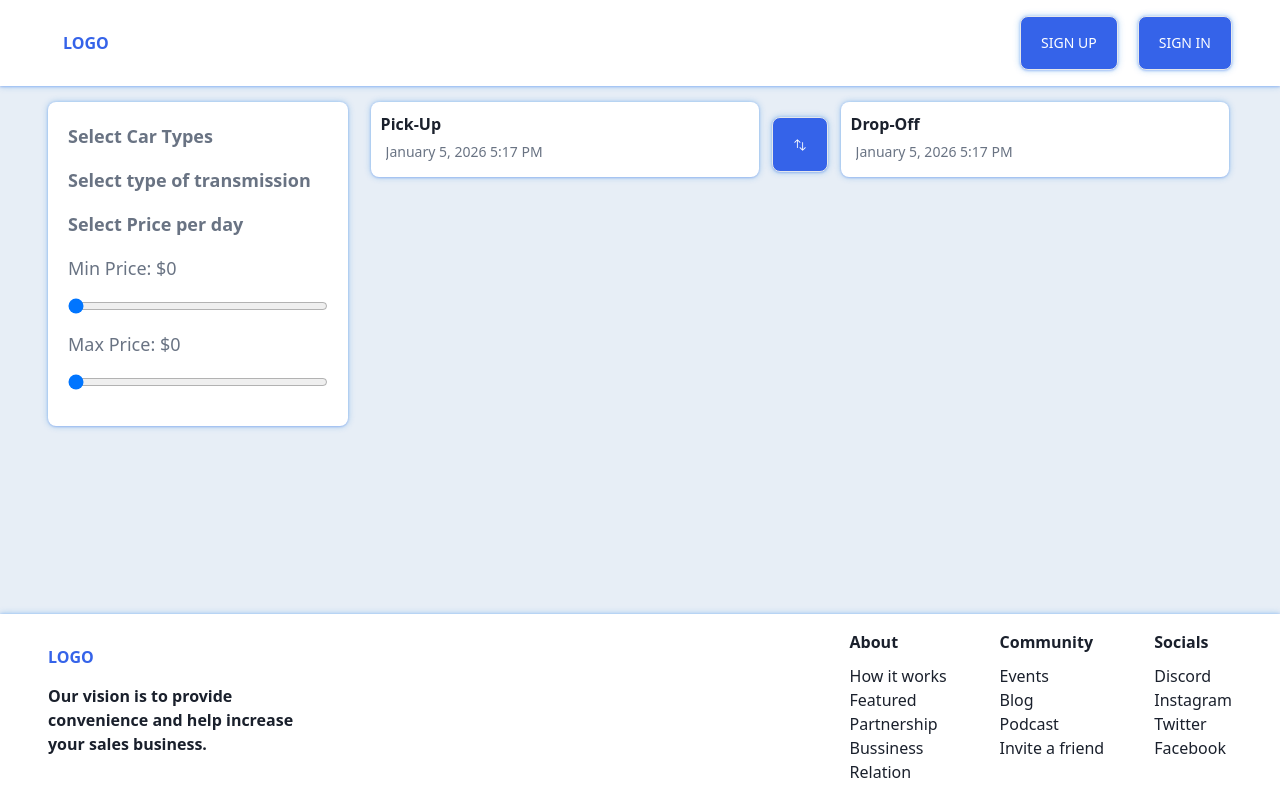
Test: SignUpForm validation testing › displays error for invalid email
Click the button "SIGN UP". click: (1069, 43)
box: [1020,16,1118,70]
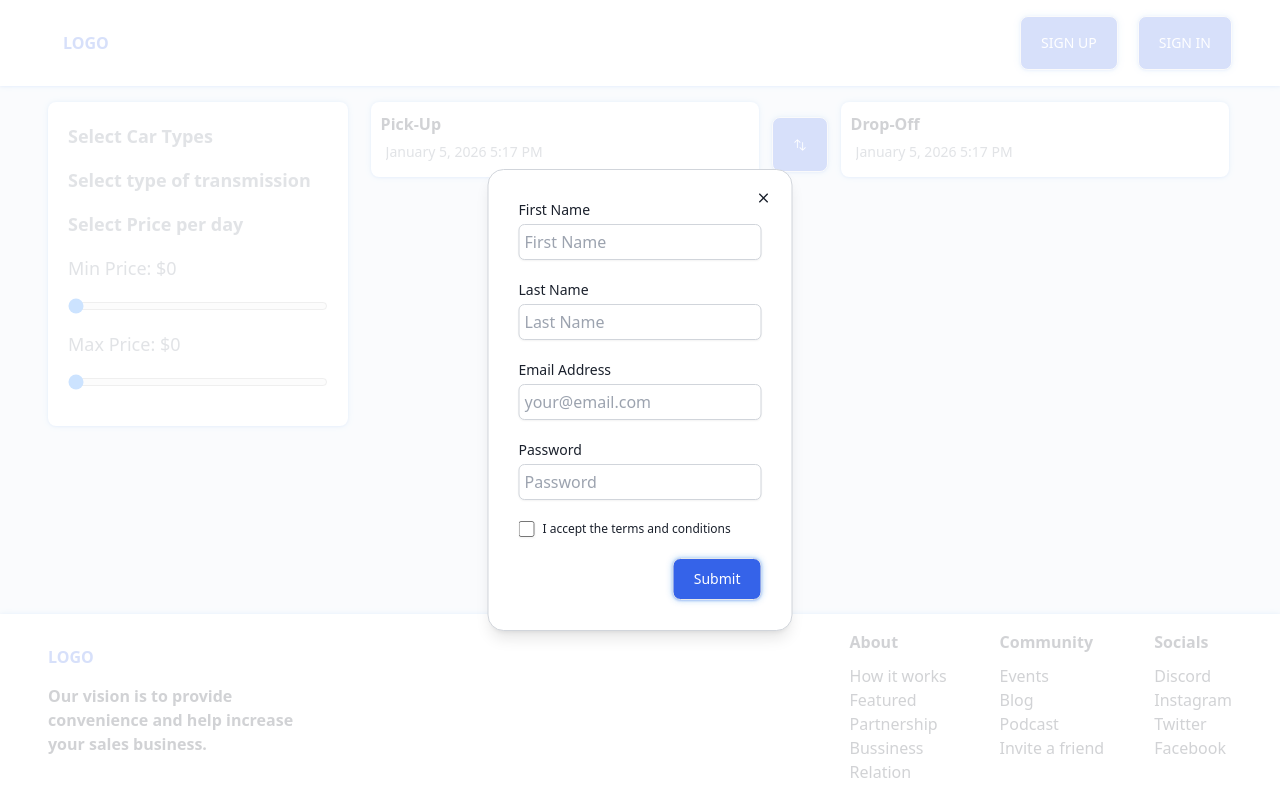
Type "invalid-email" into the field named "email". click: (641, 402)
box: [519,384,762,420]
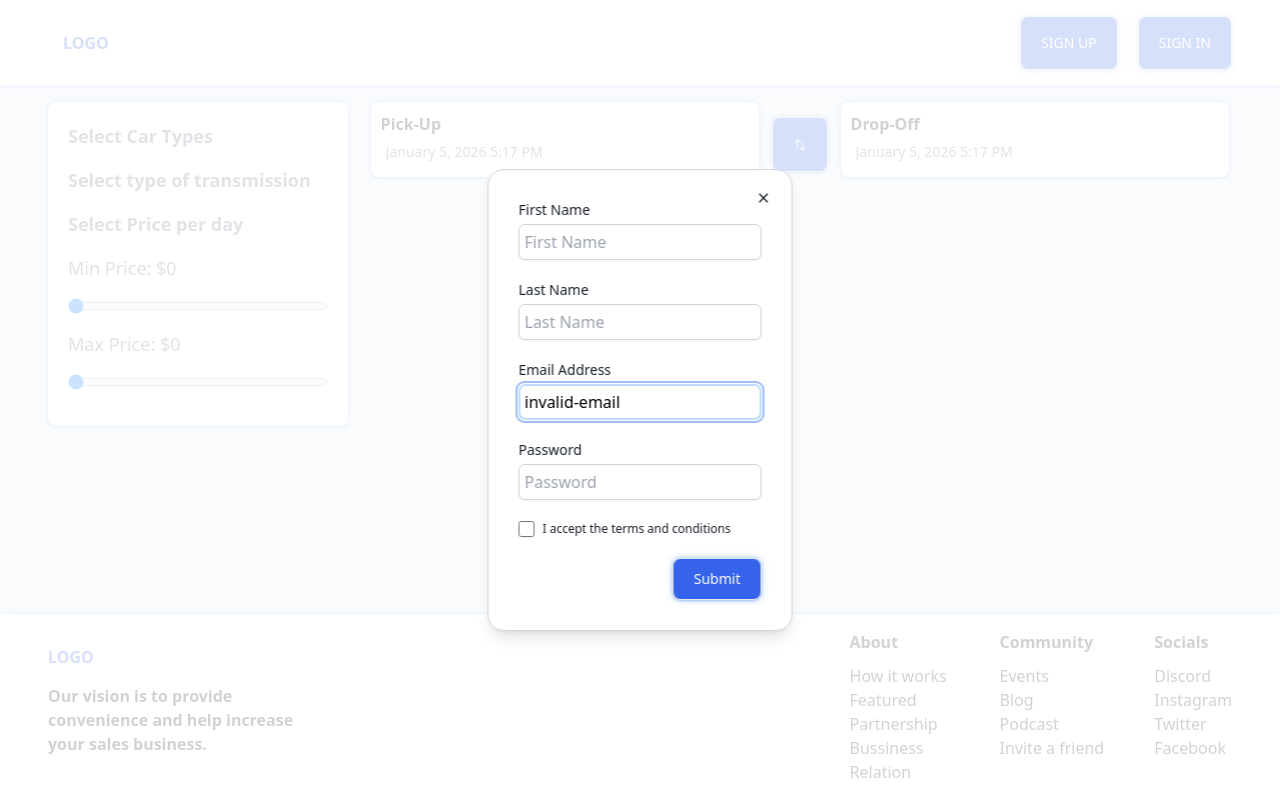
Submit the form with test id "signUpForm", box [519,200,762,600]
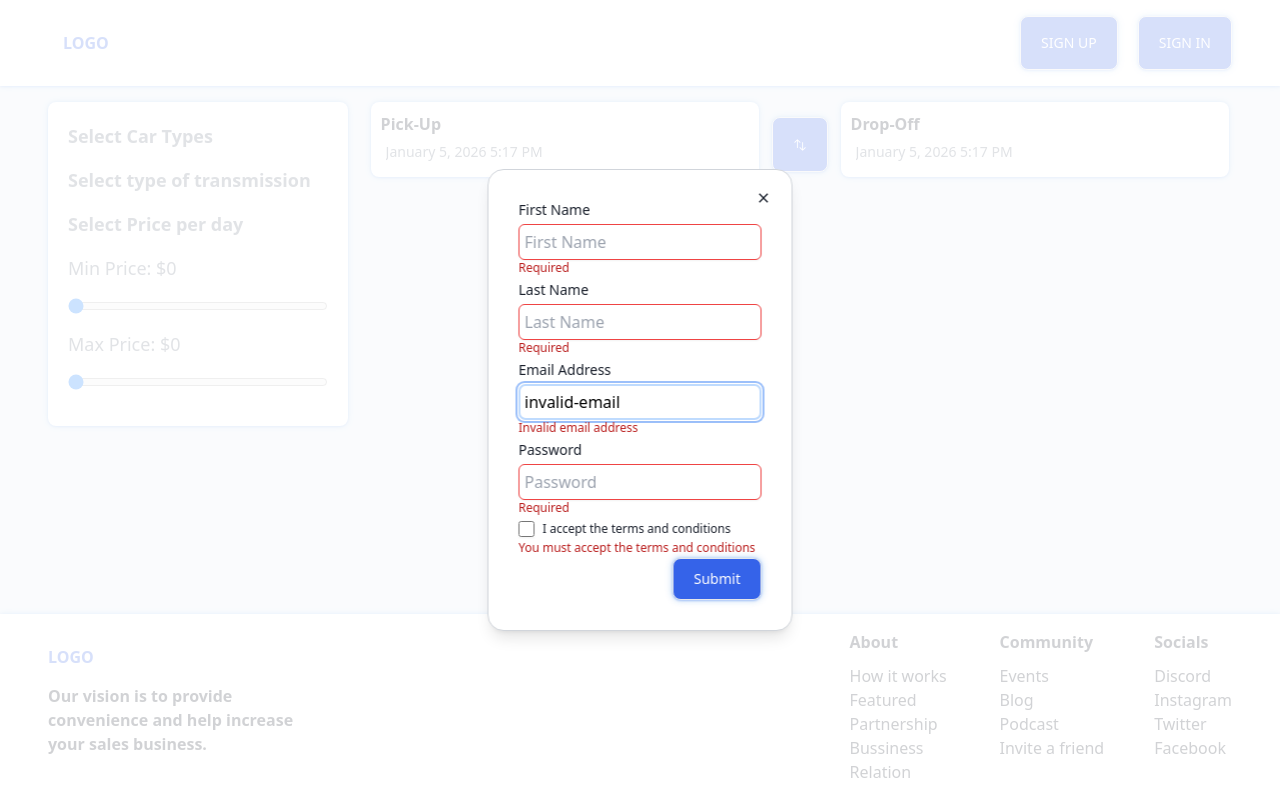
Expected: the text "Invalid email address" is shown, [518,420,638,436]
